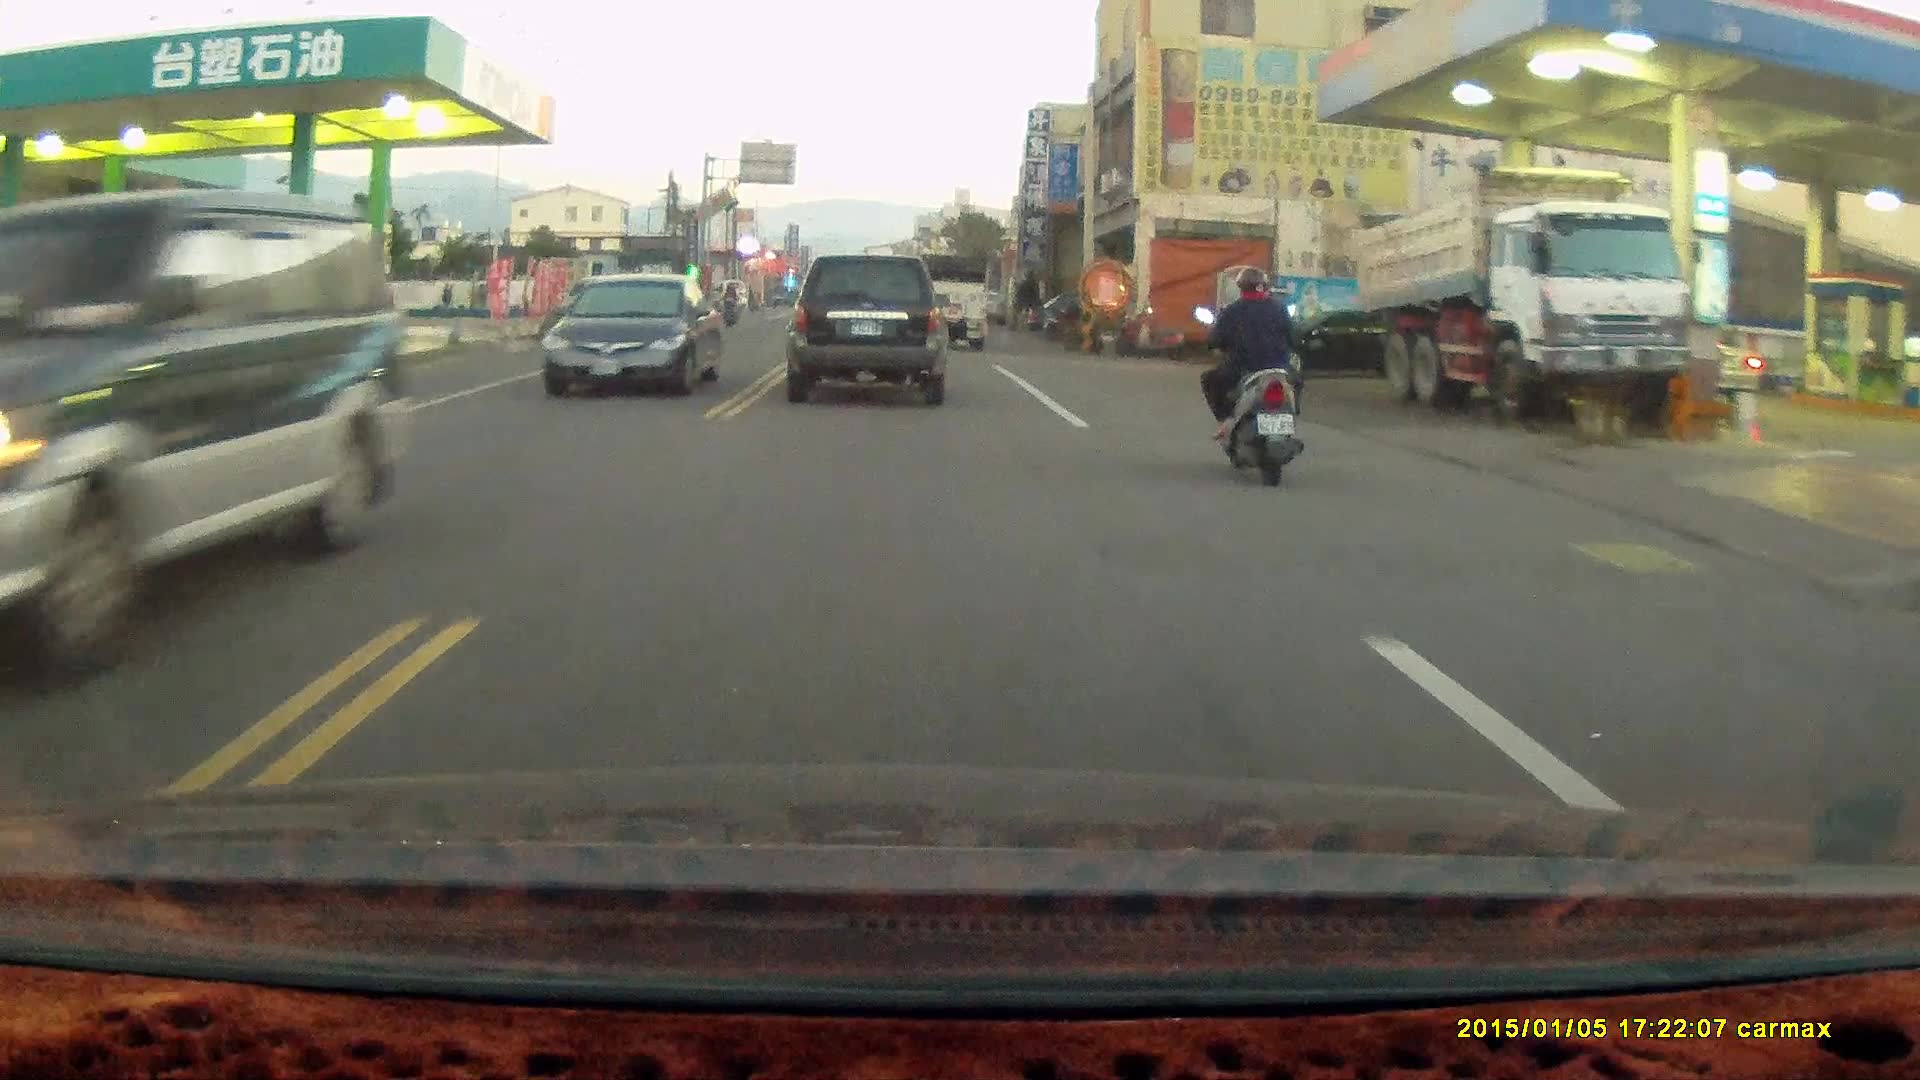rider: (1192, 265, 1305, 488), (716, 280, 739, 329)
vehicle: (1, 185, 418, 688), (1356, 163, 1689, 413), (791, 251, 953, 402), (545, 270, 724, 400), (901, 253, 992, 352)
